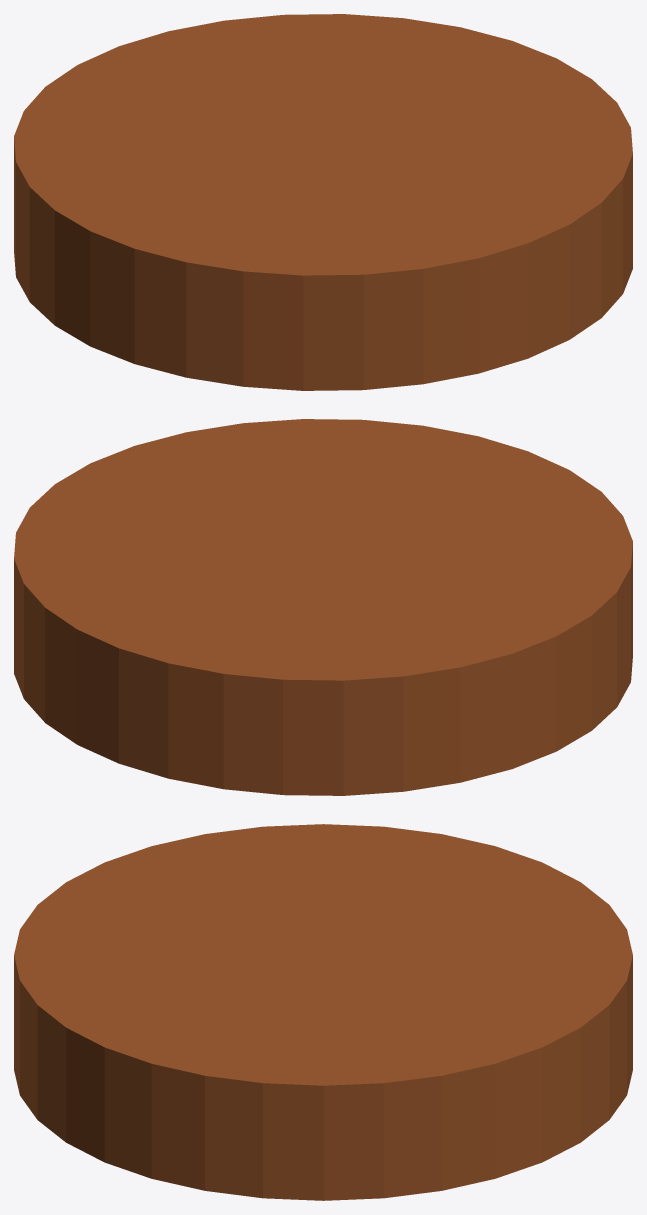
The model's file is cashne.glb.
3 views of the same model, one above another, from view 1: azimuth 30°, elevation 25°; view 2: azimuth 150°, elevation 25°; view 3: azimuth 270°, elevation 25° (orthographic).
Visible parts, largest first — view 1: Carne.001; view 2: Carne.001; view 3: Carne.001.
Boxes of the visible parts, bbox=[...] form: Carne.001: bbox=[14, 14, 632, 390]; Carne.001: bbox=[14, 419, 632, 795]; Carne.001: bbox=[14, 824, 632, 1200].
Bounding box in the file's own units: 1.72 × 0.3534 × 1.72.
